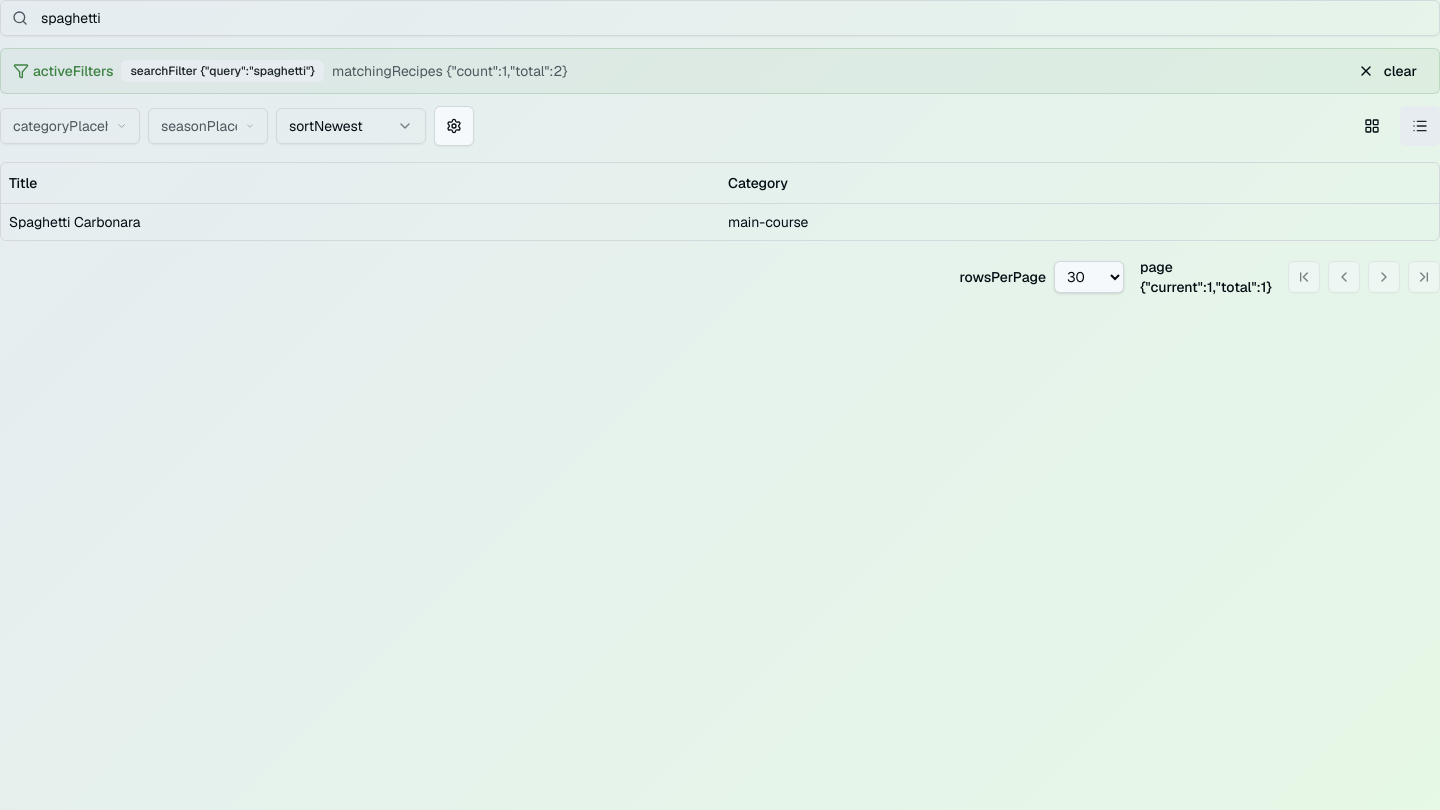
Test: RecipeDataTable filter state › clears the filter in the UI and session storage
Click the button "clear": (1387, 71) [1348,57,1427,85]
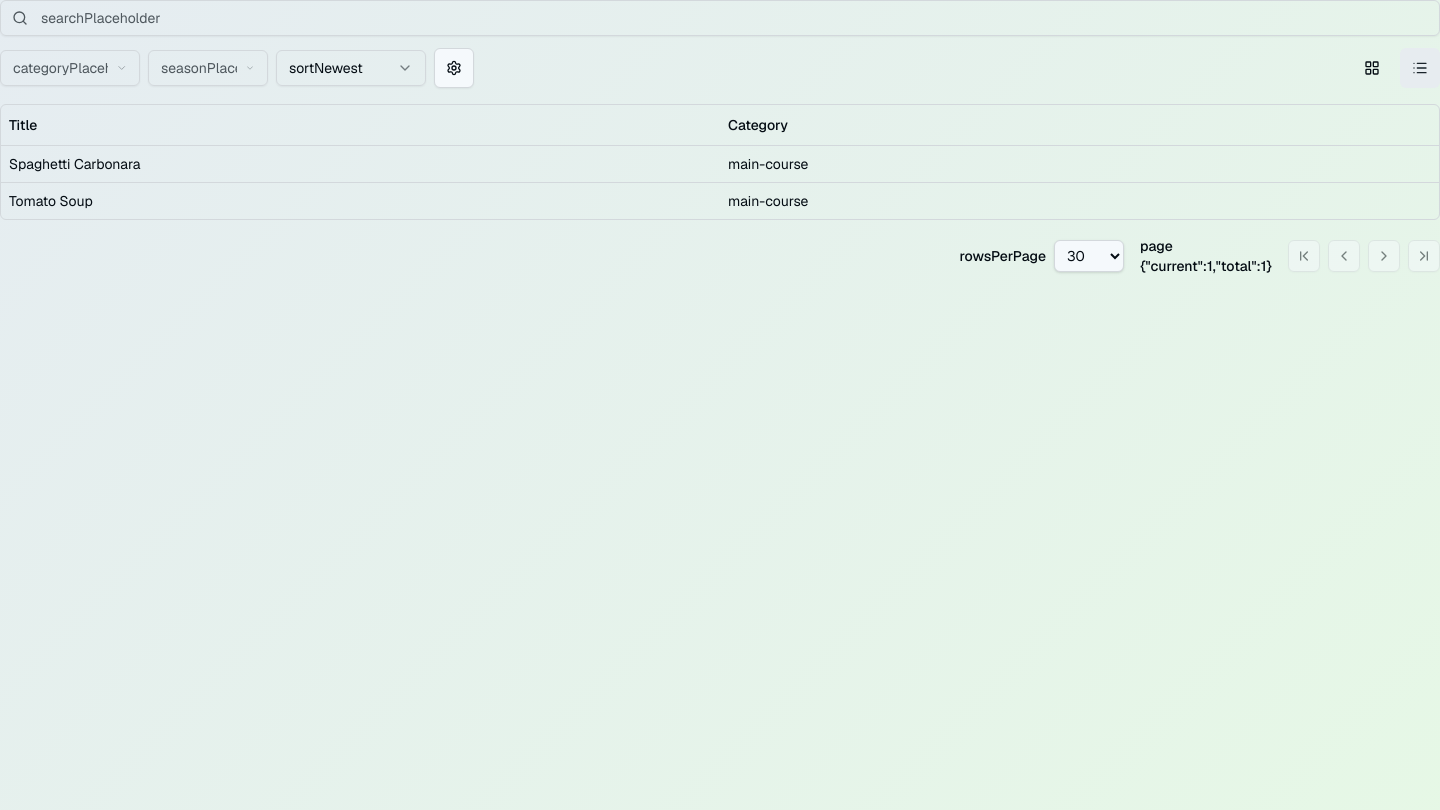
Check: the field with placeholder "searchPlaceholder" is shown, box [0,0,1439,36]
Check: the message is gone
